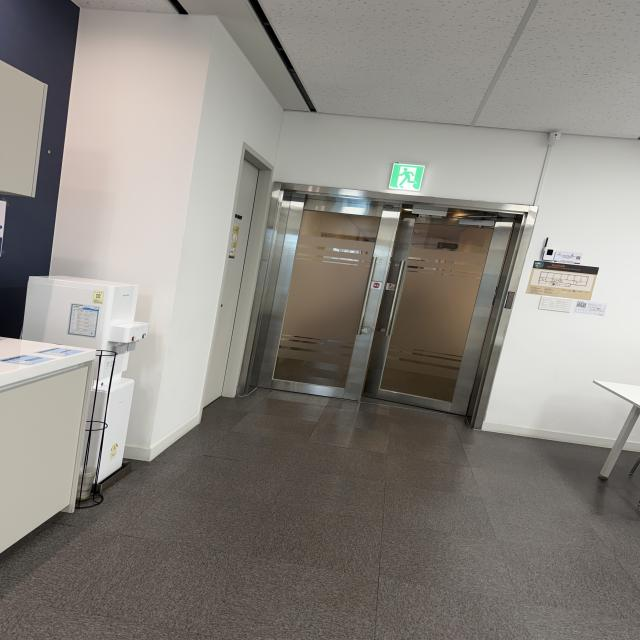rear_door: (267, 193, 492, 414)
